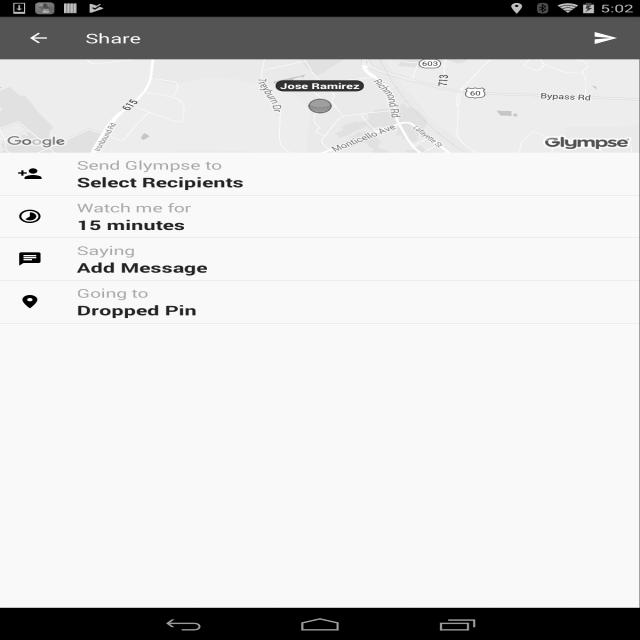ImageButton: (9, 17, 68, 59)
ImageView: (539, 133, 635, 153), (5, 135, 70, 149), (17, 166, 43, 182), (17, 208, 43, 224), (17, 251, 43, 267), (17, 294, 43, 310)
TextView: (77, 173, 622, 191), (77, 258, 622, 276), (77, 301, 622, 319), (77, 199, 622, 216), (77, 216, 622, 233), (77, 157, 622, 173), (77, 242, 622, 258), (77, 285, 622, 301), (580, 22, 631, 54), (85, 29, 141, 47)
